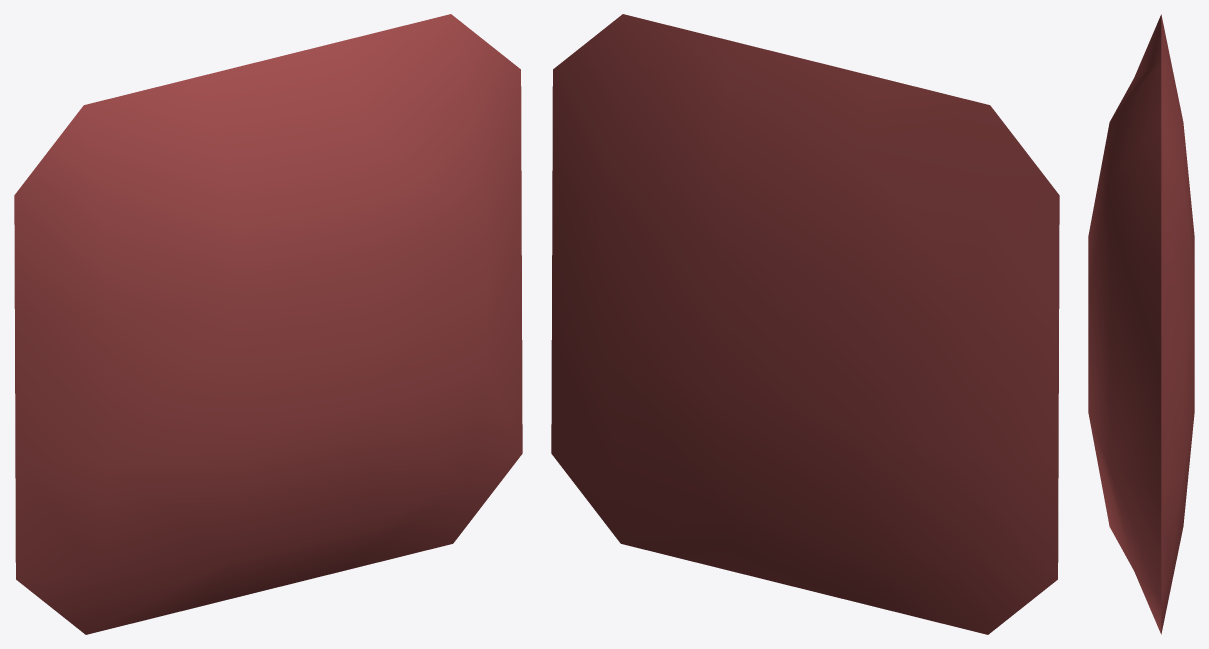
Rendered from PeachCushion.glb.
The picture shows the model from 3 angles, left to right: view 1: azimuth 30°, elevation 25°; view 2: azimuth 150°, elevation 25°; view 3: azimuth 270°, elevation 25°; orthographic projection. The views are drawn at different scales.
Visible parts, largest first — view 1: cushion; view 2: cushion; view 3: cushion.
Part boxes in pixels (<box>): cushion: <box>14,14,522,634</box>; cushion: <box>551,14,1059,634</box>; cushion: <box>1088,14,1194,634</box>.
Bounding box in the file's own units: 0.6322 × 0.6322 × 0.1306.
1 material, 1 textured.
